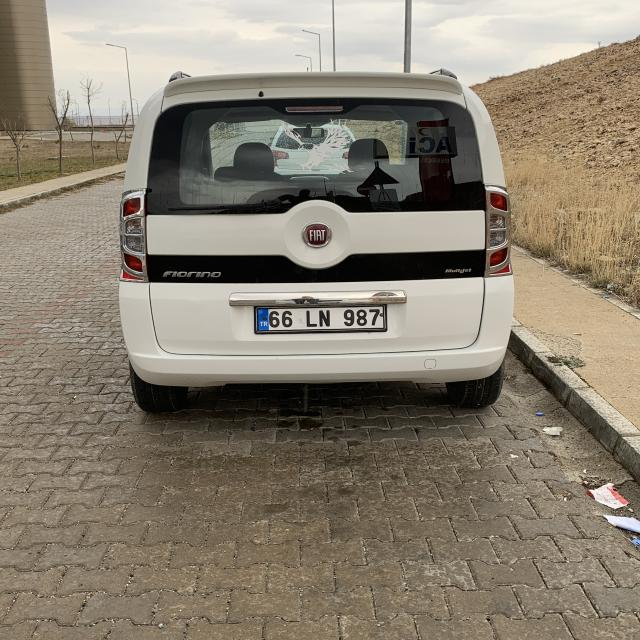license_plate: (255, 305, 386, 331)
